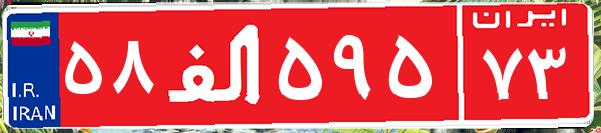3: (525, 38, 570, 115)
5: (385, 28, 445, 110), (273, 28, 330, 110), (57, 26, 110, 107)
7: (475, 38, 525, 113)
8: (110, 28, 158, 105)
9: (330, 28, 385, 110)
الف: (158, 15, 273, 115)
